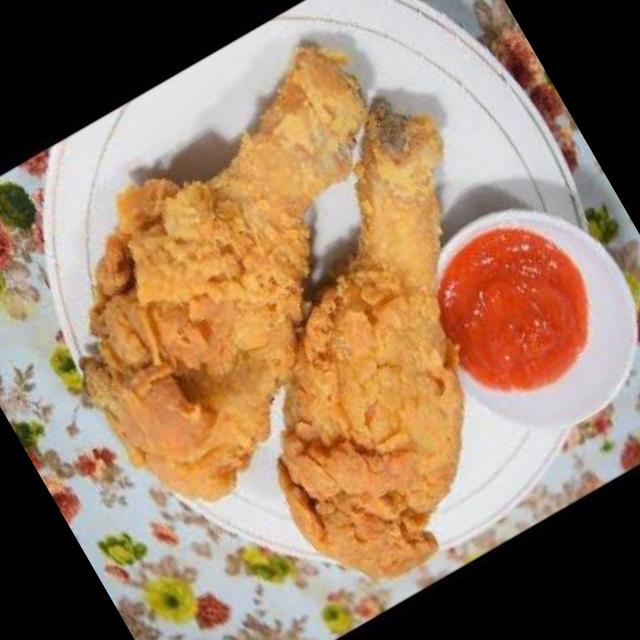Fried Chicken: (82, 45, 465, 579)
